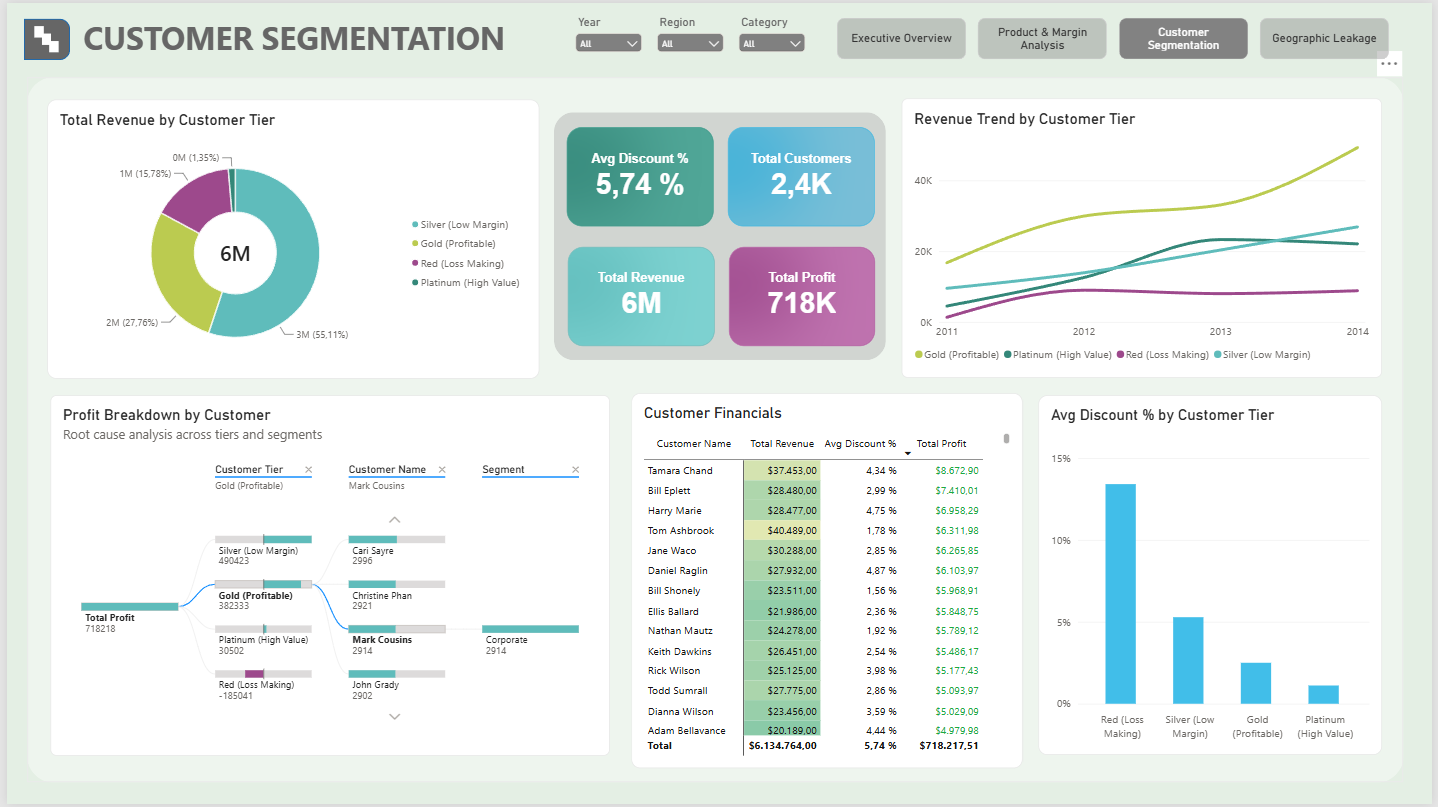

The page's visual inventory and layout, read from the dashboard file:
{"tool":"powerbi","page":{"name":"Customer Segmentation","canvas":[1920,1080],"ordinal":2},"visuals":[{"type":"shape","box":[736.8,147.4,447.4,334.2],"z":0},{"type":"shape","box":[27,99.9,1855.1,950.5],"z":1000},{"type":"cardVisual","fields":{"Data":["fact_sales.Total Revenue"]},"box":[755.6,329.2,198.5,133.7],"z":2000},{"type":"cardVisual","fields":{"Data":["fact_sales.Total Profit"]},"box":[973,329.2,197.1,133.7],"z":3000},{"type":"donutChart","fields":{"Category":["dim_customer_tier.customer_tier"],"Y":["fact_sales.Total Revenue"]},"box":[54,129.6,662.9,376.7],"z":4000},{"type":"clusteredColumnChart","fields":{"Category":["dim_customer_tier.customer_tier"],"Y":["dim_customer.Avg Discount %"]},"box":[1389.3,529.3,463.1,484.7],"z":5000},{"type":"pivotTable","title":"Customer Financials","fields":{"Rows":["dim_customer.customer_name"],"Values":["fact_sales.Total Revenue","dim_customer.Avg Discount %","fact_sales.Total Profit"]},"box":[841.8,525.5,527.3,505.5],"z":6000},{"type":"decompositionTreeVisual","title":"Profit Breakdown by Customer","fields":{"Analyze":["fact_sales.Total Profit"],"ExplainBy":["dim_customer_tier.customer_tier","dim_customer.customer_name","dim_customer.segment"]},"box":[58.1,527.9,753.4,486.1],"z":7000},{"type":"lineChart","title":"Revenue Trend by Customer Tier","fields":{"Series":["dim_customer_tier.customer_tier"],"Category":["dim_date.year"],"Y":["fact_sales.Total Revenue"]},"box":[1205.3,128.9,647.4,376.3],"z":8000},{"type":"shape","box":[23,21.6,62.1,55.4],"z":9000},{"type":"textbox","box":[102.6,17.6,614.3,74.3],"z":10000},{"type":"slicer","fields":{"Values":["dim_date.date_key.Variation.Date Hierarchy.Year"]},"box":[761.5,17.6,98.9,71.9],"z":11000},{"type":"slicer","fields":{"Values":["dim_location.region"]},"box":[870.9,17.6,98.9,71.9],"z":12000},{"type":"slicer","fields":{"Values":["dim_product.category"]},"box":[981.6,17.6,98.9,71.9],"z":13000},{"type":"pageNavigator","box":[1117.9,20.3,748,56.7],"z":14000},{"type":"shape","box":[37.8,31.1,12.2,14.9],"z":15000},{"type":"shape","box":[47.8,41.1,12.2,14.9],"z":16000},{"type":"shape","box":[57.8,51.1,12.2,14.9],"z":17000},{"type":"cardVisual","fields":{"Data":["dim_customer.Total Customers"]},"box":[971.7,167.2,198,134],"z":18000},{"type":"cardVisual","fields":{"Data":["dim_customer.Avg Discount %"]},"box":[754.3,167.2,198,134],"z":19000}]}

Visuals, with their boxes in screenshot pixels (x1, y1, x2, y2), scaled from the page's 1920x1080 canvas onto the 1438x807 screenshot:
shape: BBox(552, 110, 887, 360)
shape: BBox(20, 75, 1410, 785)
cardVisual - fact_sales.Total Revenue: BBox(566, 246, 715, 346)
cardVisual - fact_sales.Total Profit: BBox(729, 246, 876, 346)
donutChart - dim_customer_tier.customer_tier x fact_sales.Total Revenue: BBox(40, 97, 537, 378)
clusteredColumnChart - dim_customer_tier.customer_tier x dim_customer.Avg Discount %: BBox(1041, 396, 1387, 758)
"Customer Financials" pivotTable: BBox(630, 393, 1025, 770)
"Profit Breakdown by Customer" decompositionTreeVisual: BBox(44, 394, 608, 758)
"Revenue Trend by Customer Tier" lineChart: BBox(903, 96, 1388, 377)
shape: BBox(17, 16, 64, 58)
textbox: BBox(77, 13, 537, 69)
slicer - dim_date.date_key.Variation.Date Hierarchy.Year: BBox(570, 13, 644, 67)
slicer - dim_location.region: BBox(652, 13, 726, 67)
slicer - dim_product.category: BBox(735, 13, 809, 67)
pageNavigator: BBox(837, 15, 1397, 58)
shape: BBox(28, 23, 37, 34)
shape: BBox(36, 31, 45, 42)
shape: BBox(43, 38, 52, 49)
cardVisual - dim_customer.Total Customers: BBox(728, 125, 876, 225)
cardVisual - dim_customer.Avg Discount %: BBox(565, 125, 713, 225)
